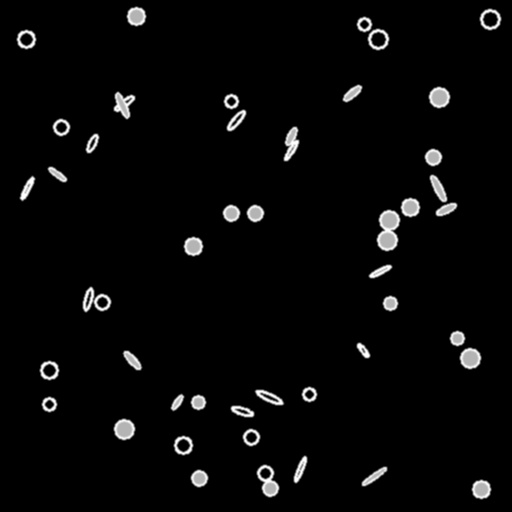pseudomonas: (428, 173, 448, 203), (254, 388, 284, 406), (361, 466, 387, 486), (113, 92, 131, 118), (113, 93, 135, 113), (226, 109, 246, 131), (292, 456, 308, 482), (122, 350, 142, 370), (19, 176, 35, 200), (342, 84, 362, 102), (283, 139, 299, 161), (47, 166, 67, 182), (369, 264, 391, 278), (82, 287, 94, 311), (85, 133, 99, 153), (436, 202, 456, 216), (284, 126, 298, 146), (231, 405, 253, 417), (170, 393, 184, 411), (356, 342, 370, 358)
synechocystis: (378, 231, 396, 249), (461, 349, 479, 367), (481, 10, 499, 28), (380, 211, 398, 229), (115, 420, 133, 438), (430, 88, 448, 106), (369, 30, 387, 48), (41, 362, 57, 378), (185, 238, 201, 254), (473, 481, 489, 497), (175, 437, 191, 453), (402, 199, 418, 215), (128, 8, 144, 24), (18, 31, 34, 47), (224, 206, 238, 220), (95, 295, 109, 309), (248, 206, 262, 220), (263, 481, 277, 495), (258, 466, 272, 480), (192, 471, 206, 485), (54, 120, 68, 134), (426, 150, 440, 164), (244, 430, 258, 444), (43, 398, 55, 410), (225, 95, 237, 107), (451, 332, 463, 344), (192, 396, 204, 408), (358, 18, 370, 30), (384, 297, 396, 309), (303, 388, 315, 400)
